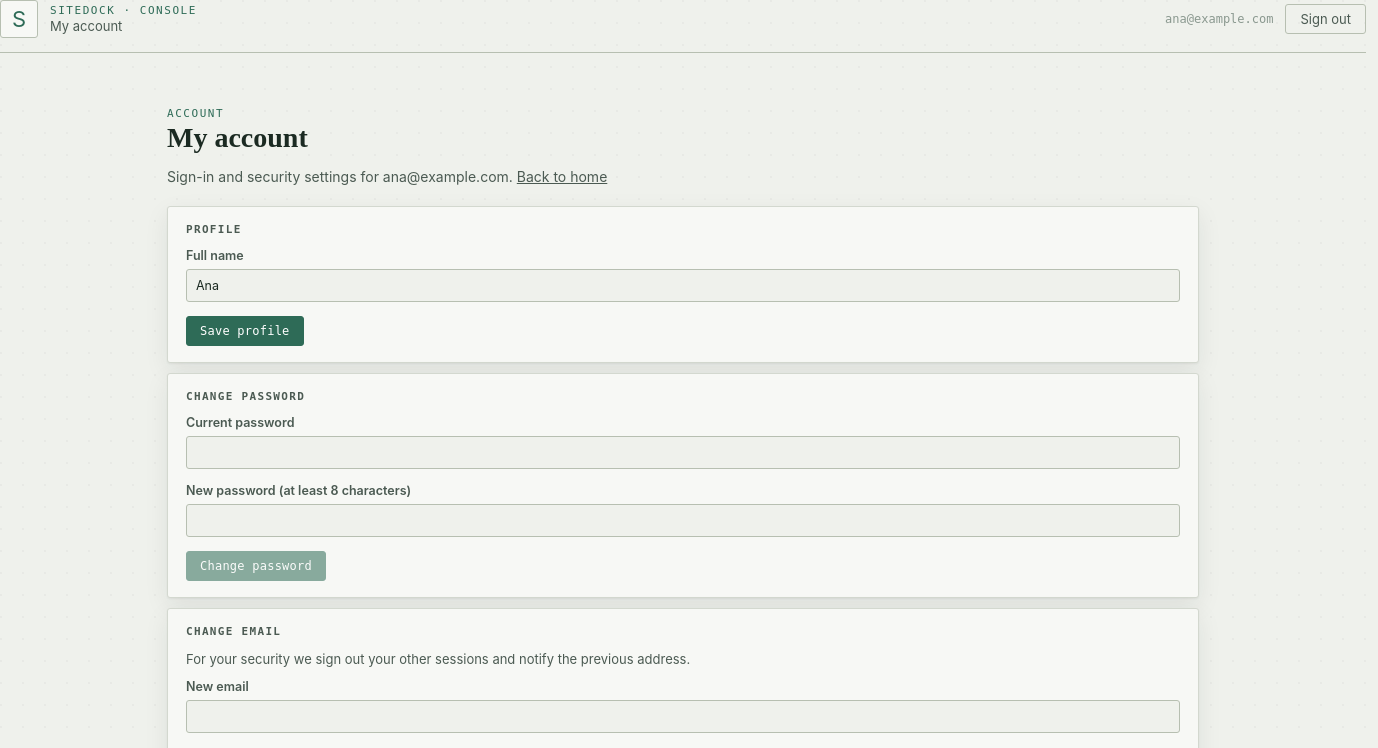
Test: AccountPage › shows the server's message when the password is wrong
In the password field labelled "Current password": (683, 452) [186,436,1180,469], type "bad"
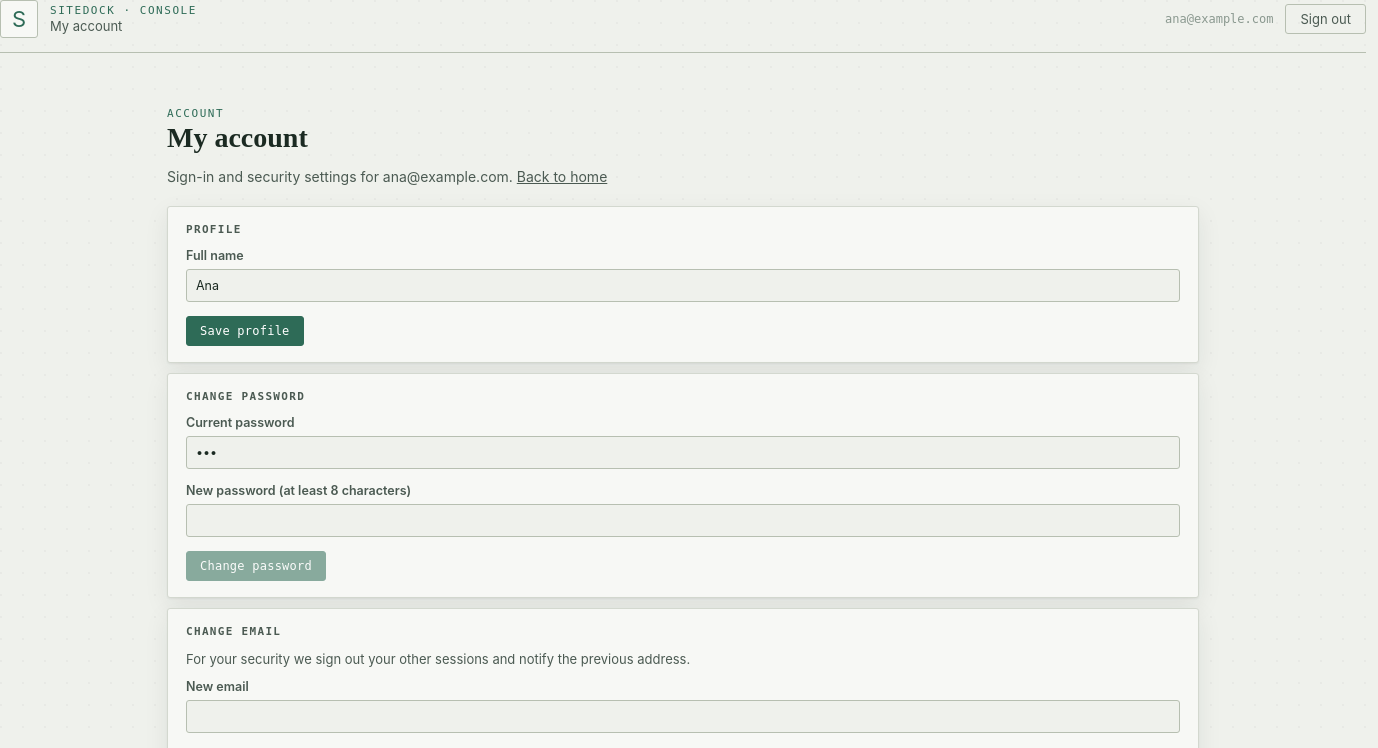
In the password field labelled "New password (at least 8 characters)": (683, 520) [186,504,1180,537], type "new-password-1"
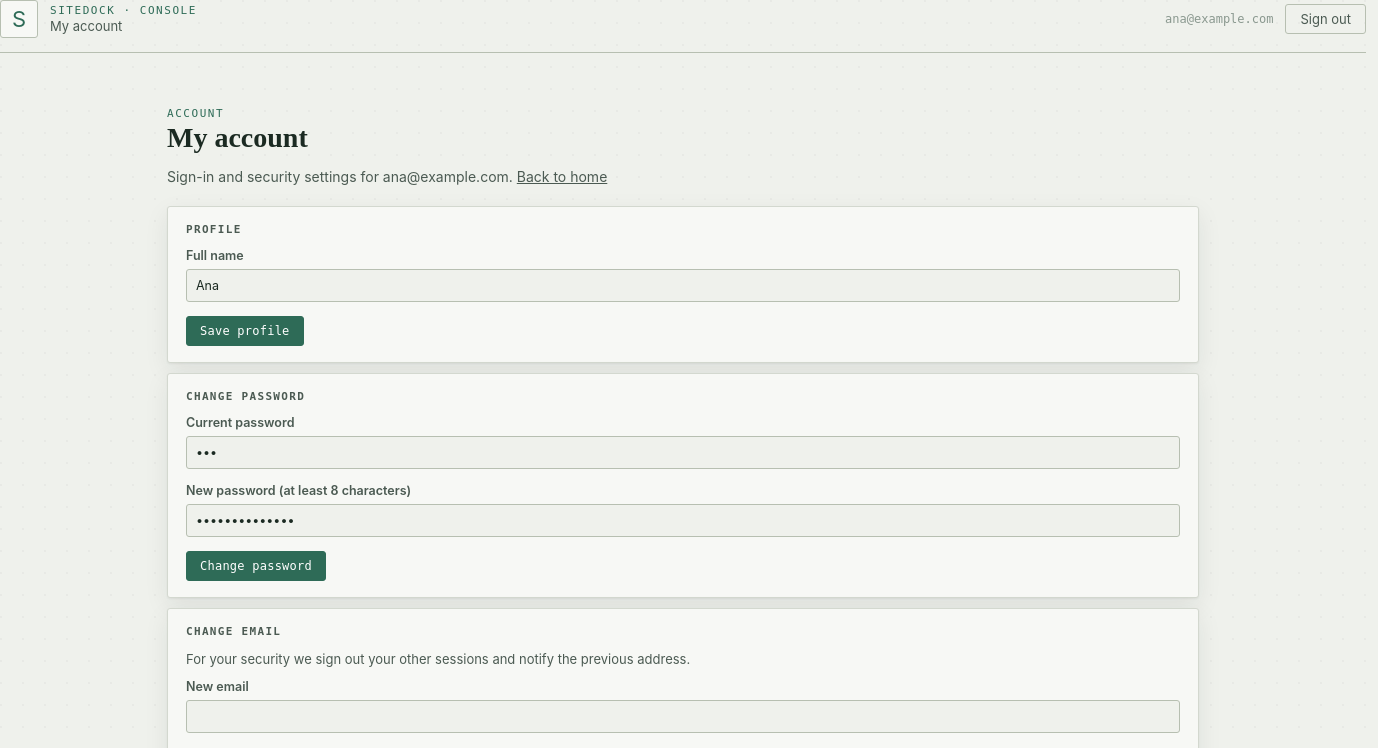
Click the button "Change password": (256, 566) [186,551,326,581]
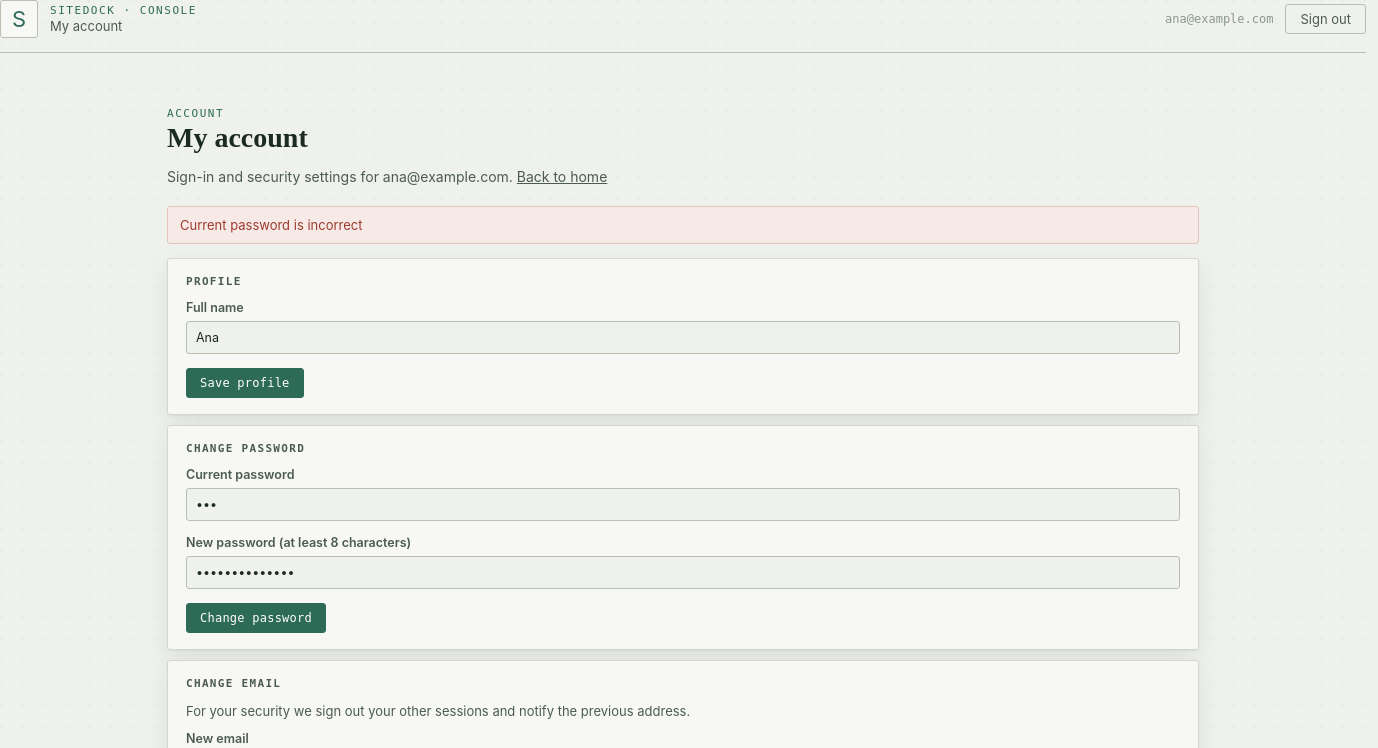
expect the message reads "Current password is incorrect": met, box [180,217,362,233]
